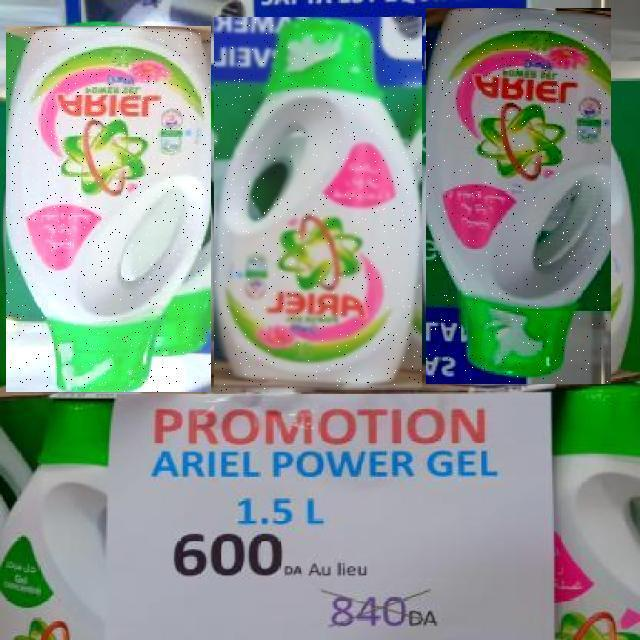Detergent: (215, 18, 423, 392), (6, 26, 211, 392), (426, 8, 611, 384)
